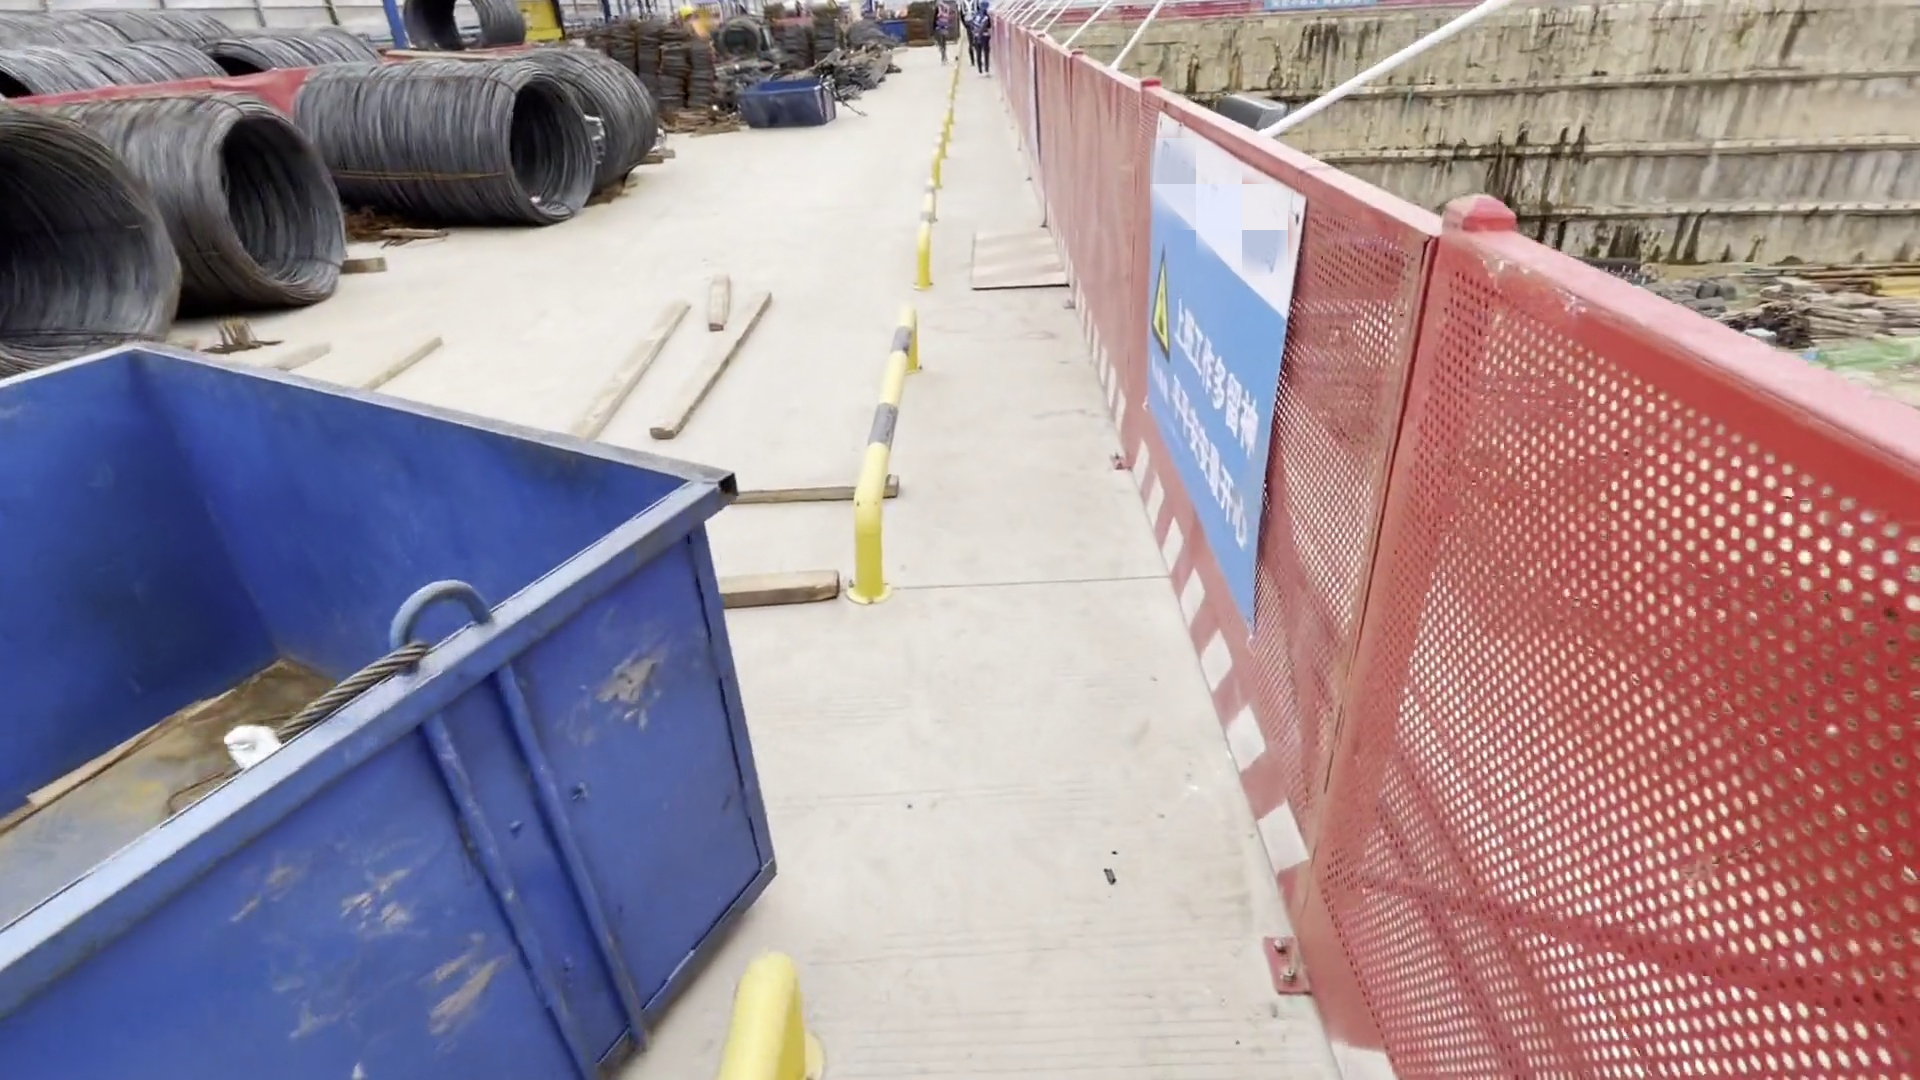fence: (978, 30, 1910, 1080)
hopper: (1, 314, 812, 1079)
person: (971, 1, 996, 76), (929, 1, 951, 64)
rebar: (798, 47, 887, 96)
slogan: (1140, 251, 1281, 524)
vest: (969, 13, 988, 41)
